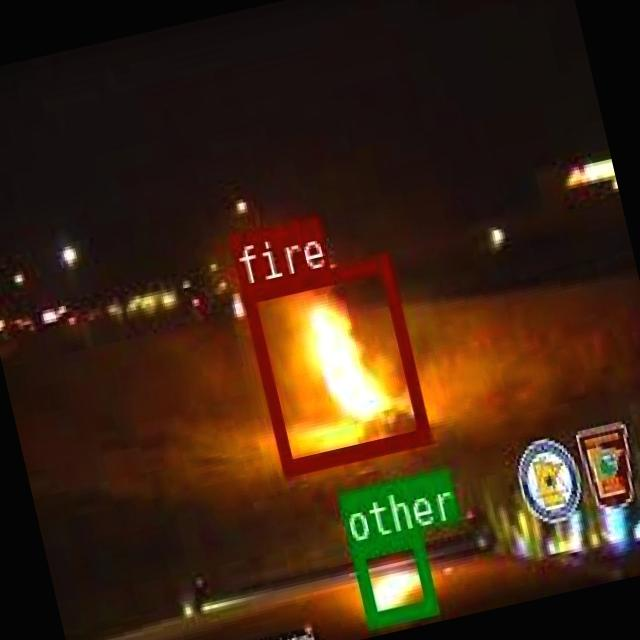fire: (239, 252, 429, 473)
